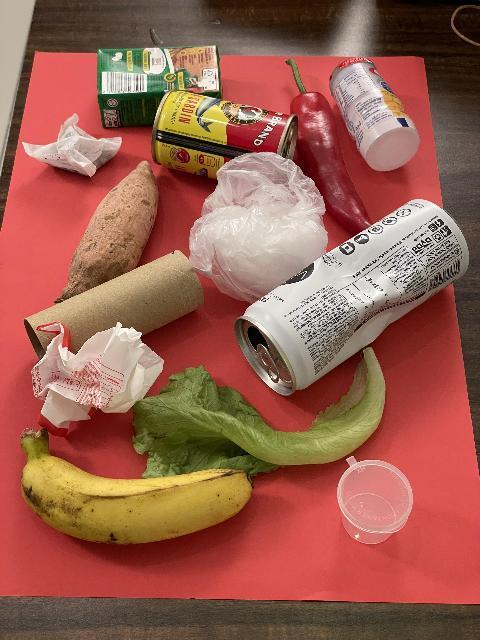banana: (19, 426, 254, 546)
chilli: (286, 58, 376, 240)
drinkcan: (233, 198, 470, 398)
drinkpack: (95, 44, 223, 128)
foodcan: (150, 88, 300, 185)
lettuce: (131, 346, 387, 482)
paperbag: (29, 320, 165, 438)
plasticbottle: (328, 56, 420, 174)
plasticcontainer: (336, 454, 414, 546)
sweetpotato: (54, 159, 161, 307)
teabag: (20, 113, 122, 179)
tissueroll: (22, 249, 206, 371)
